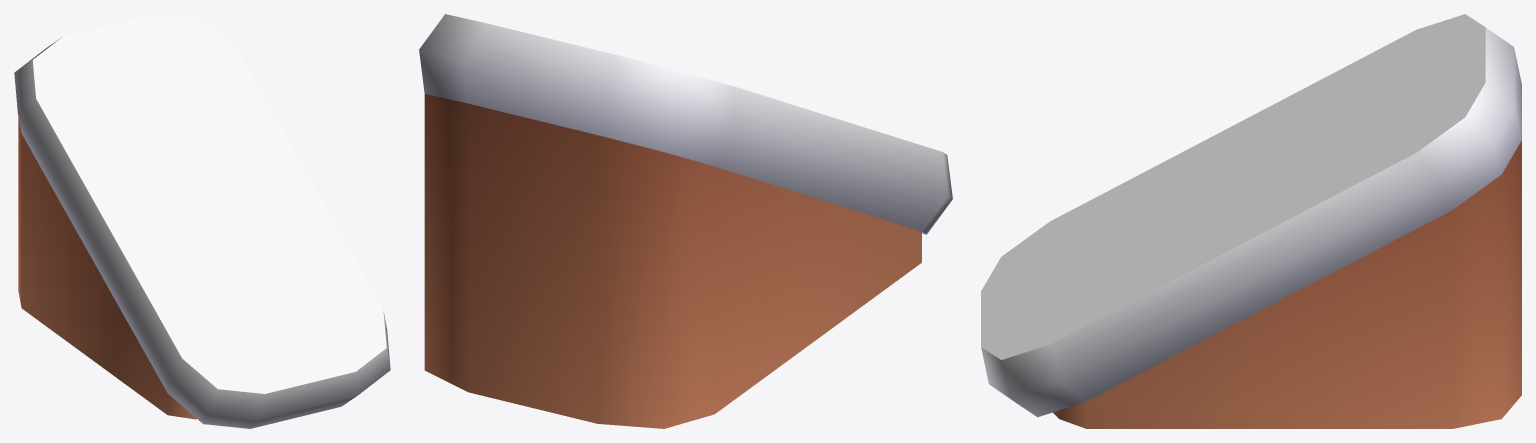
Rendered from block-snow-large-slope-steep-narrow.glb.
The picture shows the model from 3 angles, left to right: view 1: azimuth 30°, elevation 25°; view 2: azimuth 150°, elevation 25°; view 3: azimuth 270°, elevation 25°; orthographic projection. The views are drawn at different scales.
Parts seen in each view (by area): view 1: block-snow-large-slope-steep-narrow; view 2: block-snow-large-slope-steep-narrow; view 3: block-snow-large-slope-steep-narrow.
Part boxes in pixels (x1,y1,x2,y2): block-snow-large-slope-steep-narrow: (14, 14, 390, 428); block-snow-large-slope-steep-narrow: (419, 14, 952, 428); block-snow-large-slope-steep-narrow: (981, 14, 1521, 428).
Size of the model in its own units: 1.08 by 1.22 by 1.86.
1 material, 1 textured.
